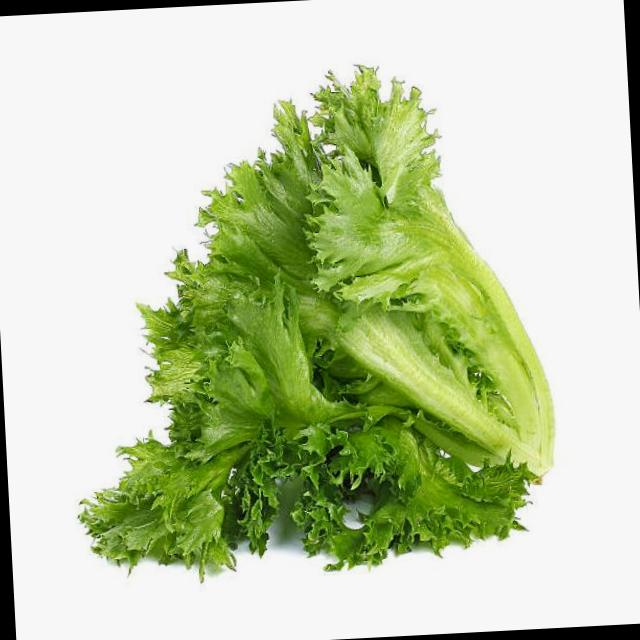Lettuce-Ready-to-Harvest: (76, 68, 555, 585)
